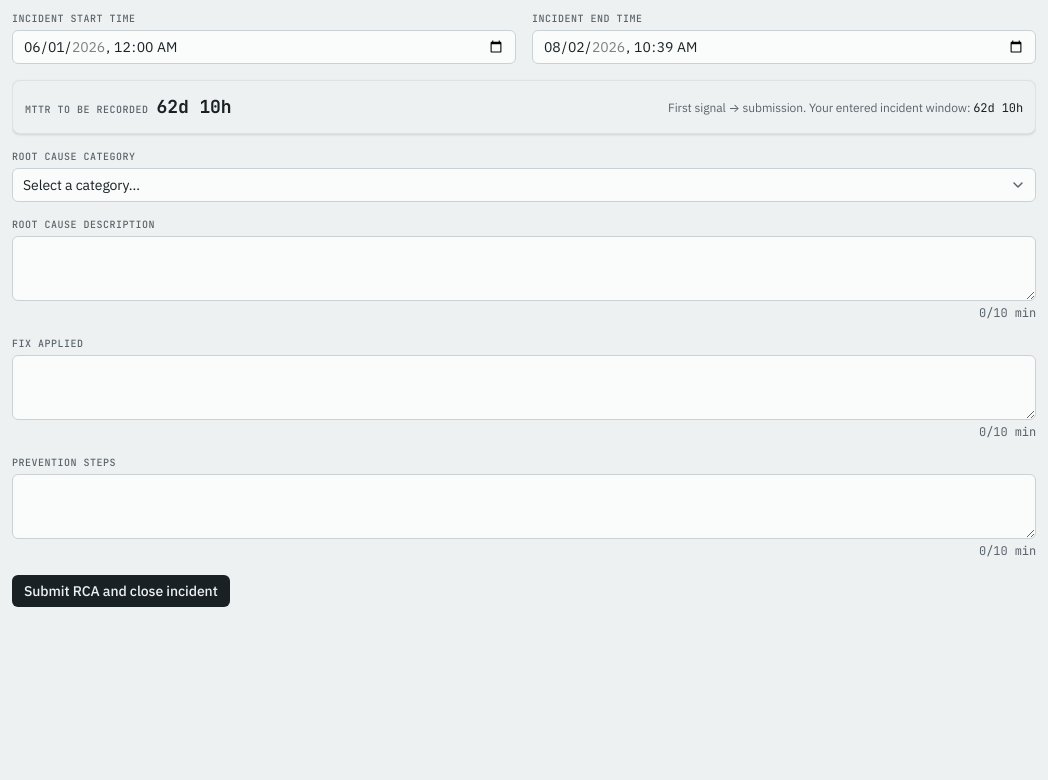
Test: RcaForm › maps a 422 field error from the backend onto the correct field
Select "INFRASTRUCTURE FAILURE" in the dropdown labelled "Root cause category" at x=524, y=185, box [12,168,1036,202]
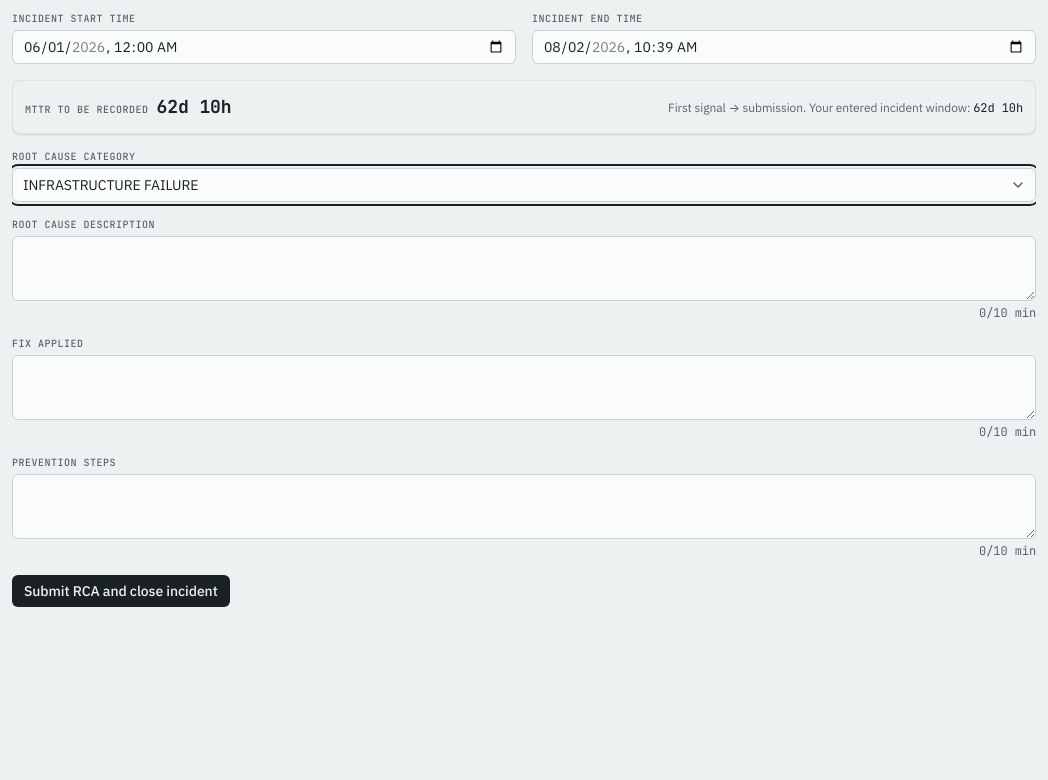
Type "Detailed root cause explanation here." into the text box labelled "Root cause description" at x=524, y=268, box [12,236,1036,301]
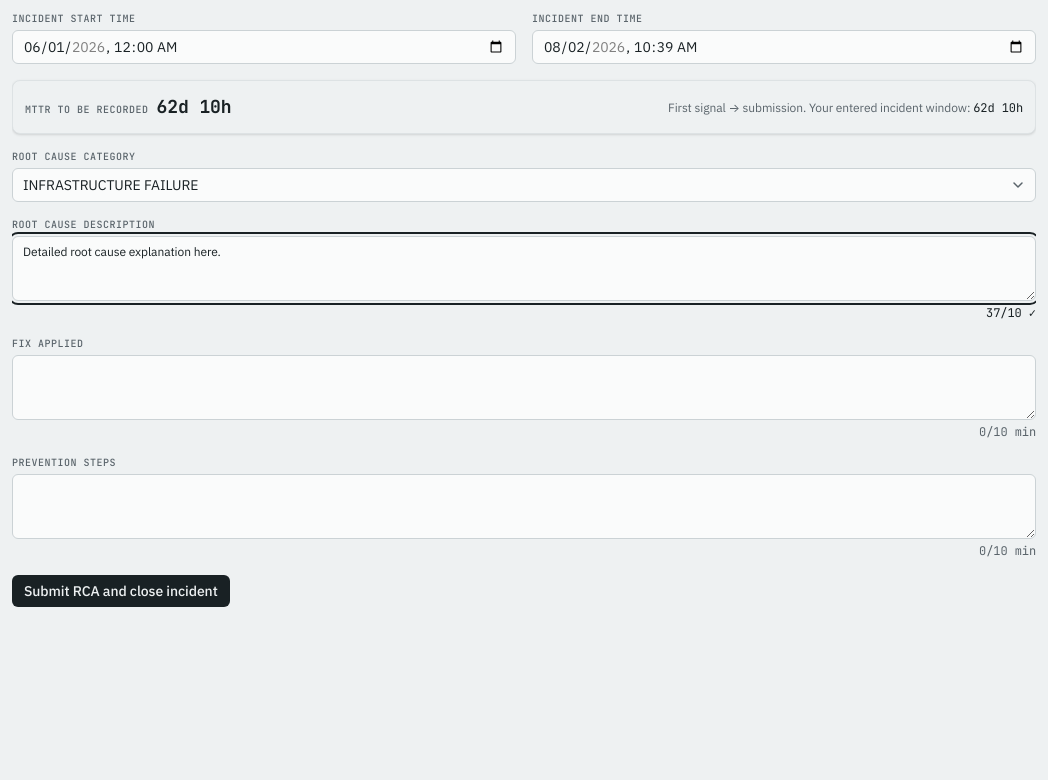
Type "Applied the corrective fix." into the text box labelled "Fix applied" at x=524, y=388, box [12,355,1036,420]
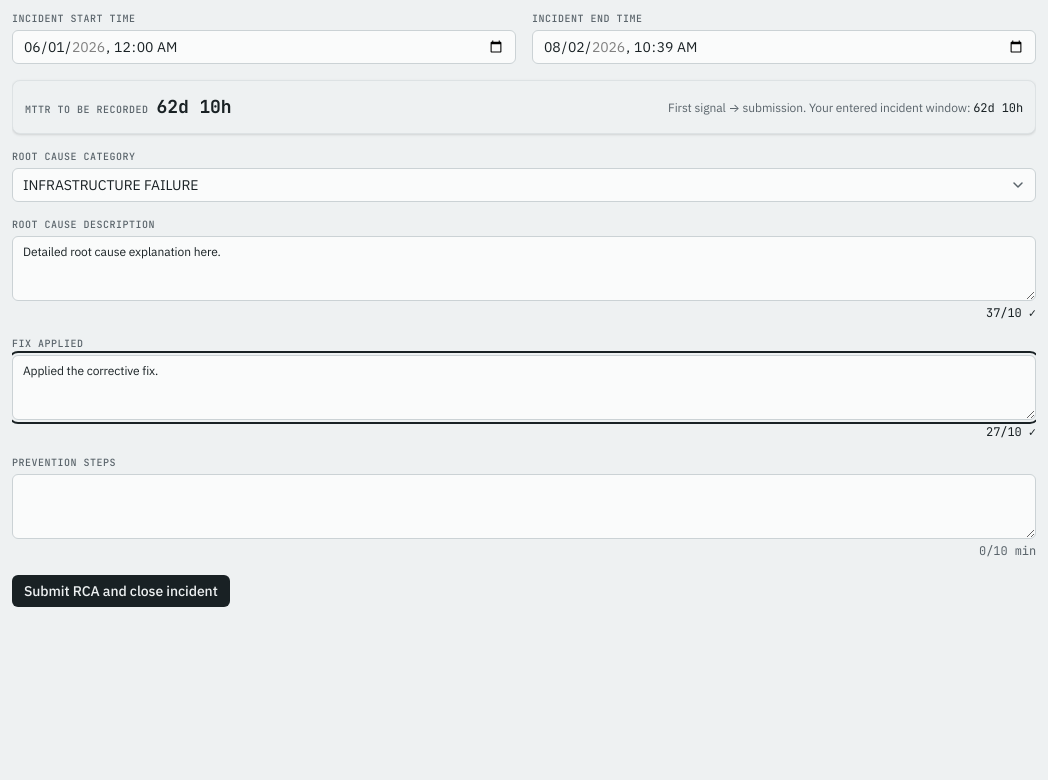
Type "Added preventative monitoring." into the text box labelled "Prevention steps" at x=524, y=506, box [12,474,1036,539]
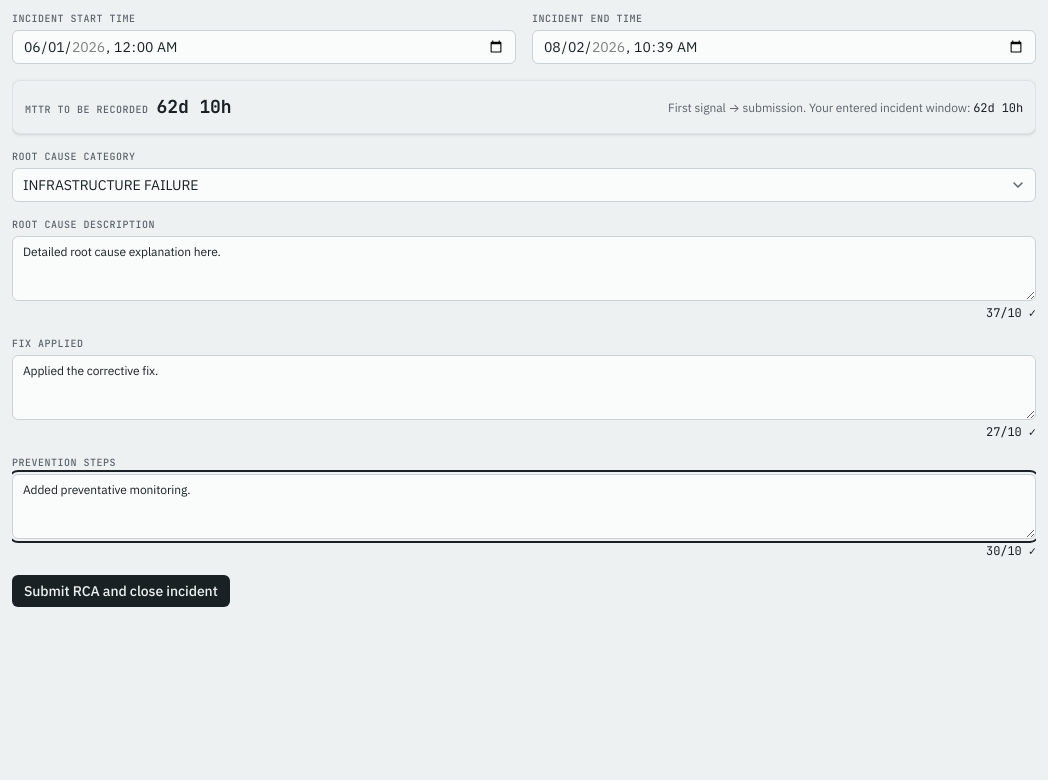
Click the button "Submit RCA and close incident" at x=121, y=591, box [12,575,230,607]
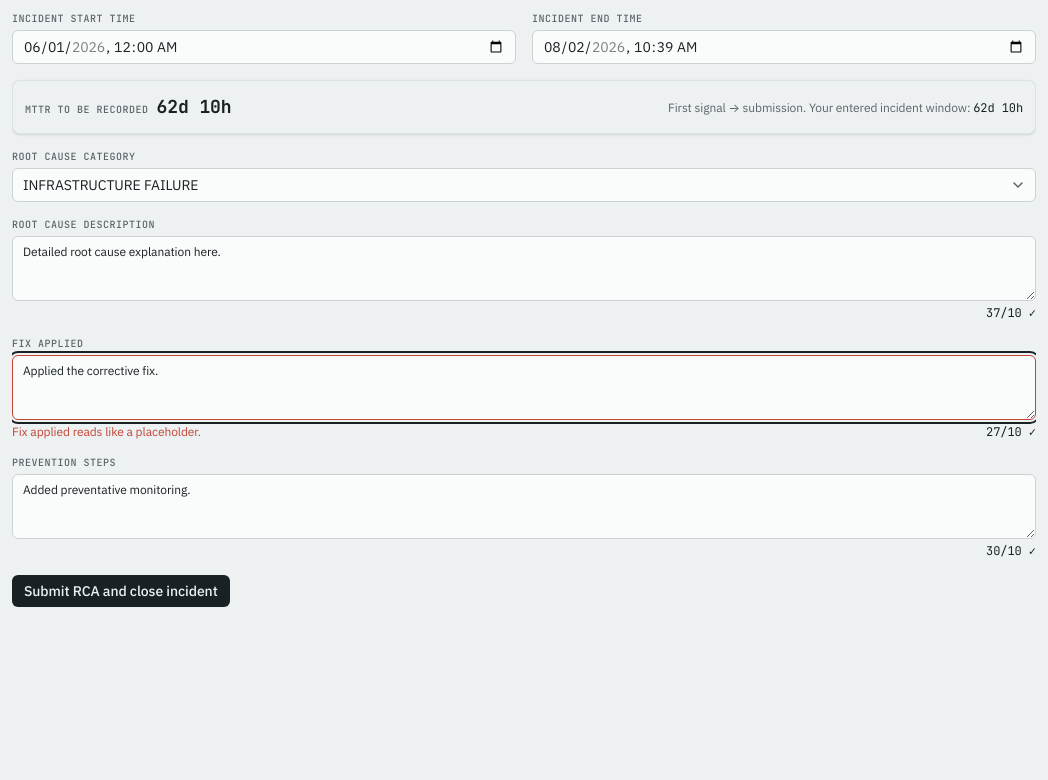
Expected: the text "Fix applied reads like a placeholder." is shown, [12,424,201,440]
